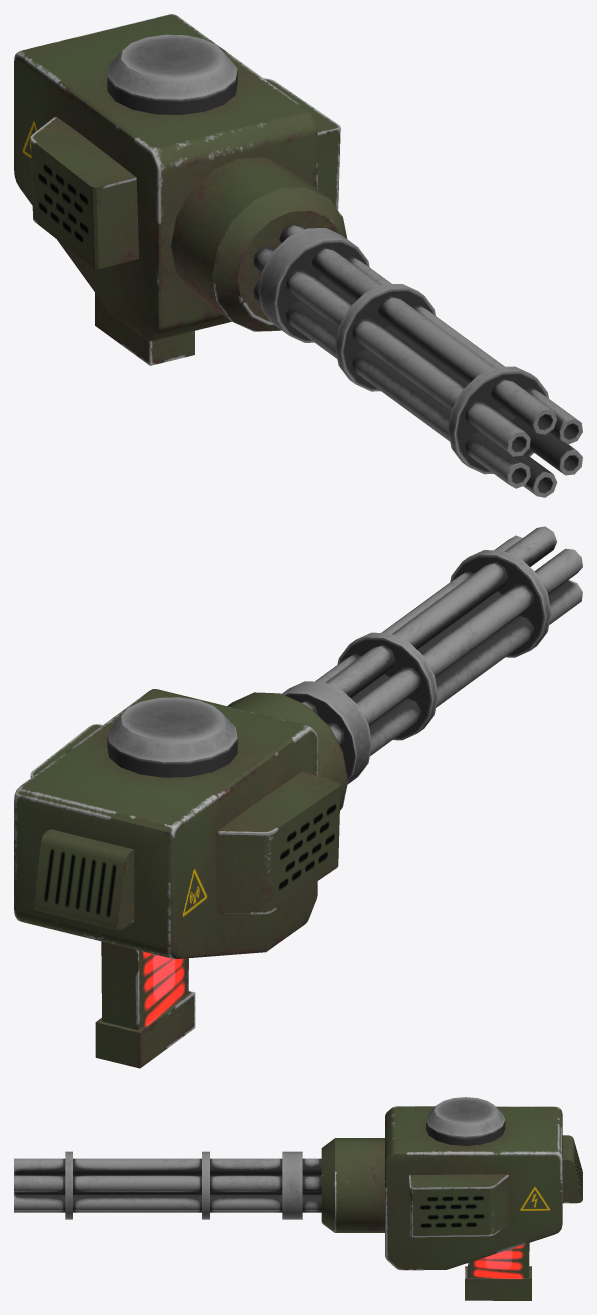
Rendered from SM_MechMinigun.fbx.
3 renders of one model, top to bottom at view 1: azimuth 30°, elevation 25°; view 2: azimuth 150°, elevation 25°; view 3: azimuth 270°, elevation 25°, orthographic. The views are drawn at different scales.
Visible parts, largest first — view 1: SM_MechMinigun, SM_MechMinigun_Barrels; view 2: SM_MechMinigun, SM_MechMinigun_Barrels; view 3: SM_MechMinigun, SM_MechMinigun_Barrels.
Part boxes in pixels (left/top/right/bottom): SM_MechMinigun: left=14, top=14, right=340, bottom=365; SM_MechMinigun_Barrels: left=171, top=157, right=582, bottom=497; SM_MechMinigun: left=14, top=689, right=340, bottom=1068; SM_MechMinigun_Barrels: left=227, top=526, right=582, bottom=810; SM_MechMinigun: left=385, top=1097, right=582, bottom=1300; SM_MechMinigun_Barrels: left=14, top=1138, right=384, bottom=1232.
Size of the model in its own units: 68.96 by 80.33 by 225.
